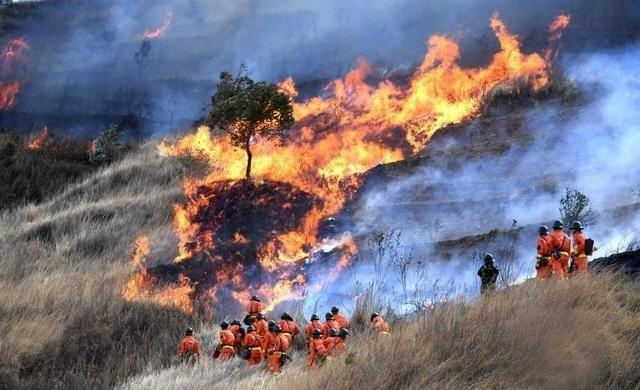fire: (145, 9, 543, 337), (135, 10, 175, 40), (25, 122, 50, 150), (369, 310, 390, 333)
